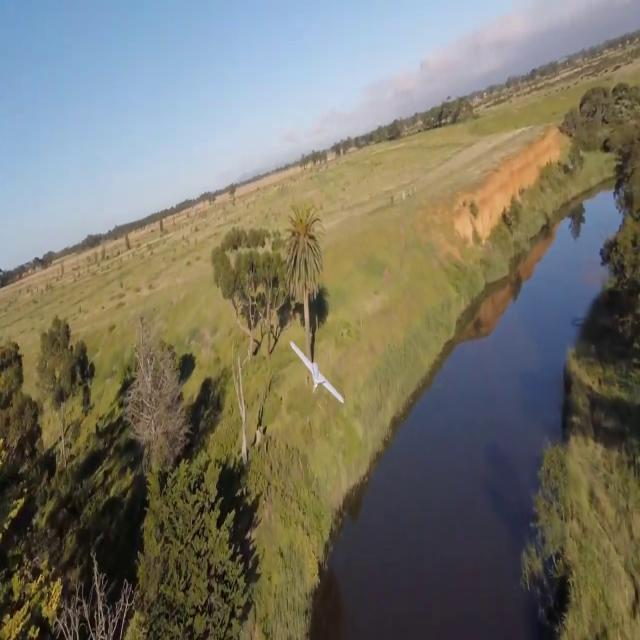iha: (288, 372, 346, 376)
